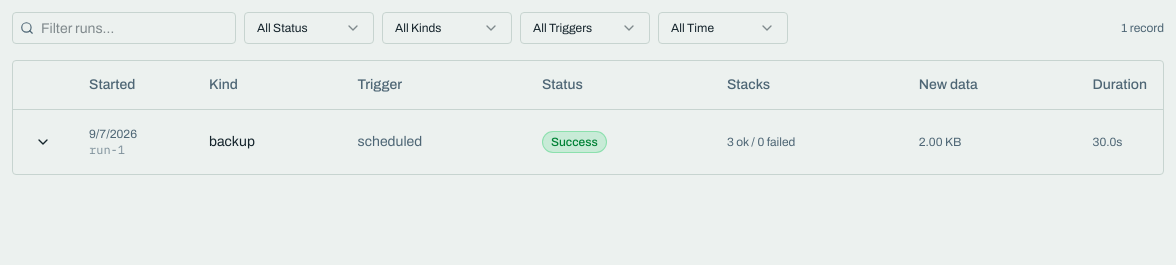
Test: BackupHistoryTab — expandable run rows › names the cause the backend sent for a 404 NOT_FOUND failure
This screenshot has width=1176, height=265.
Expected: the text "run-1" is shown, x1=89 y1=142 x2=125 y2=156
Click the button named "Show details for run run-1" at (43, 142), box x1=29 y1=128 x2=57 y2=156
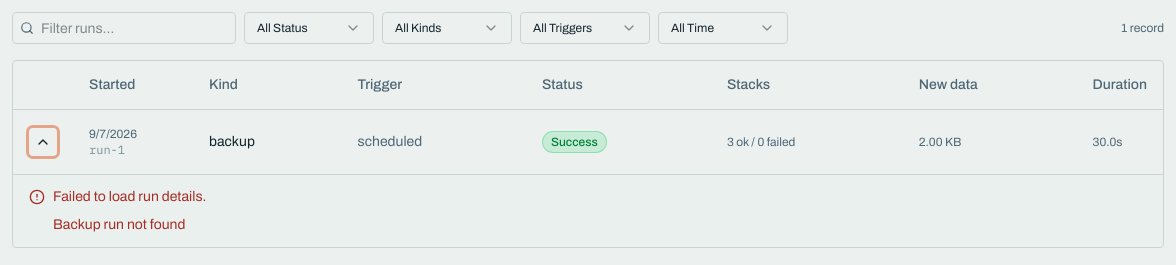
Expected: the text "Failed to load run details." is shown, x1=29 y1=188 x2=206 y2=204
Expected: the text "Backup run not found" is shown, x1=53 y1=216 x2=185 y2=232
